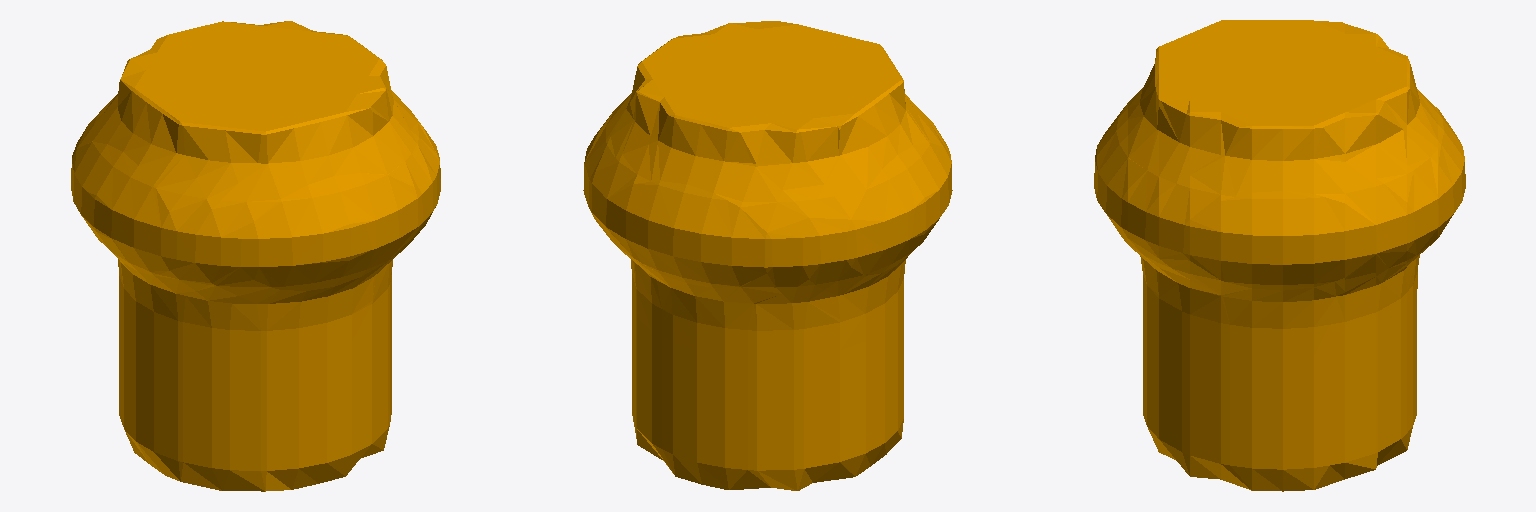
The robot description file, URDF, robot "cylinder_../../meshes/cylinders/cylinder_46.stl":
<?xml version="1.0" encoding="utf-8"?>  <robot name="cylinder_../../meshes/cylinders/cylinder_46.stl">   <link name="cylinder_../../meshes/cylinders/cylinder_46.stl">     <visual>       <geometry>         <mesh filename="../meshes/cylinders/cylinder_46.stl" scale="1 1 1"/>       </geometry>     </visual>     <collision>       <geometry>         <mesh filename="../meshes/cylinders/cylinder_46.stl" scale="1 1 1"/>       </geometry>     </collision>     <inertial>        <origin         xyz="0 0 0"         rpy="0 0 0" />       <mass value="0.11820939389923432"/>       <origin rpy="0 0 0" xyz="0 0 0"/>       <inertia ixx="5.636050636749448e-05" ixy="-1.6238171602201202e-08" ixz="-1.0074148693947888e-08" iyy="5.6358635374267466e-05" iyz="-1.2473951058640365e-08" izz="3.639315911607824e-05"/>     </inertial>   </link>  </robot>

--- What the picture shows (computed from the rendered views, not written in the file) ---
Views: 3 orthographic renders of the robot side by side, from view 1: azimuth 30°, elevation 25°; view 2: azimuth 150°, elevation 25°; view 3: azimuth 270°, elevation 25°.
Model cylinder_../../meshes/cylinders/cylinder_46.stl with 1 links and 0 joints (none), rooted at cylinder_../../meshes/cylinders/cylinder_46.stl, posed every joint at zero.
Visible links, largest first — view 1: cylinder_../../meshes/cylinders/cylinder_46.stl; view 2: cylinder_../../meshes/cylinders/cylinder_46.stl; view 3: cylinder_../../meshes/cylinders/cylinder_46.stl.
Boxes of the visible links, x1=… form: cylinder_../../meshes/cylinders/cylinder_46.stl: x1=71, y1=21, x2=440, y2=491; cylinder_../../meshes/cylinders/cylinder_46.stl: x1=583, y1=21, x2=952, y2=490; cylinder_../../meshes/cylinders/cylinder_46.stl: x1=1094, y1=20, x2=1465, y2=491.
Size in the robot's own frame: 0.0598 by 0.0598 by 0.0652 metres.
Meshes: 1 distinct files referenced, 1 mesh visuals loaded (1 binary STL).